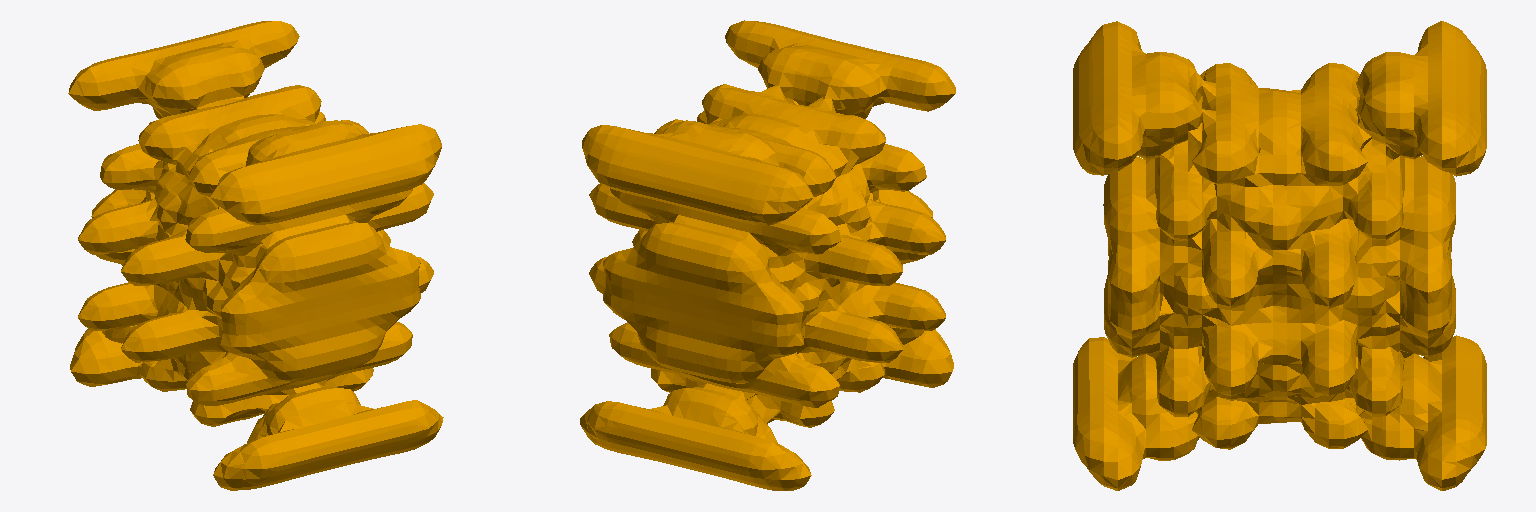
URDF robot description (object):
<?xml version="1.0"?>
<robot name="object">
  <link name="object">
    <visual>
      <origin xyz="0 0 0"/>
      <geometry>
        <mesh filename="meshes/subset_100_scaled/egad_Q25_1_s.obj" scale=".03 .03 .03"/>
      </geometry>
    </visual>
    <collision>
  <origin xyz="0 0 0"/>
  <geometry>
    <mesh filename="meshes/subset_100_scaled/egad_Q25_1_s_0decompose.obj" scale=".03 .03 .03"/>
<!--          <mesh filename="meshes/custom/obj0_ball.obj" scale=".05 .05 .05"/>-->
  </geometry>
</collision><collision>
  <origin xyz="0 0 0"/>
  <geometry>
    <mesh filename="meshes/subset_100_scaled/egad_Q25_1_s_1decompose.obj" scale=".03 .03 .03"/>
<!--          <mesh filename="meshes/custom/obj0_ball.obj" scale=".05 .05 .05"/>-->
  </geometry>
</collision><collision>
  <origin xyz="0 0 0"/>
  <geometry>
    <mesh filename="meshes/subset_100_scaled/egad_Q25_1_s_2decompose.obj" scale=".03 .03 .03"/>
<!--          <mesh filename="meshes/custom/obj0_ball.obj" scale=".05 .05 .05"/>-->
  </geometry>
</collision><collision>
  <origin xyz="0 0 0"/>
  <geometry>
    <mesh filename="meshes/subset_100_scaled/egad_Q25_1_s_3decompose.obj" scale=".03 .03 .03"/>
<!--          <mesh filename="meshes/custom/obj0_ball.obj" scale=".05 .05 .05"/>-->
  </geometry>
</collision><collision>
  <origin xyz="0 0 0"/>
  <geometry>
    <mesh filename="meshes/subset_100_scaled/egad_Q25_1_s_4decompose.obj" scale=".03 .03 .03"/>
<!--          <mesh filename="meshes/custom/obj0_ball.obj" scale=".05 .05 .05"/>-->
  </geometry>
</collision><collision>
  <origin xyz="0 0 0"/>
  <geometry>
    <mesh filename="meshes/subset_100_scaled/egad_Q25_1_s_5decompose.obj" scale=".03 .03 .03"/>
<!--          <mesh filename="meshes/custom/obj0_ball.obj" scale=".05 .05 .05"/>-->
  </geometry>
</collision><collision>
  <origin xyz="0 0 0"/>
  <geometry>
    <mesh filename="meshes/subset_100_scaled/egad_Q25_1_s_6decompose.obj" scale=".03 .03 .03"/>
<!--          <mesh filename="meshes/custom/obj0_ball.obj" scale=".05 .05 .05"/>-->
  </geometry>
</collision><collision>
  <origin xyz="0 0 0"/>
  <geometry>
    <mesh filename="meshes/subset_100_scaled/egad_Q25_1_s_7decompose.obj" scale=".03 .03 .03"/>
<!--          <mesh filename="meshes/custom/obj0_ball.obj" scale=".05 .05 .05"/>-->
  </geometry>
</collision><collision>
  <origin xyz="0 0 0"/>
  <geometry>
    <mesh filename="meshes/subset_100_scaled/egad_Q25_1_s_8decompose.obj" scale=".03 .03 .03"/>
<!--          <mesh filename="meshes/custom/obj0_ball.obj" scale=".05 .05 .05"/>-->
  </geometry>
</collision><collision>
  <origin xyz="0 0 0"/>
  <geometry>
    <mesh filename="meshes/subset_100_scaled/egad_Q25_1_s_9decompose.obj" scale=".03 .03 .03"/>
<!--          <mesh filename="meshes/custom/obj0_ball.obj" scale=".05 .05 .05"/>-->
  </geometry>
</collision><collision>
  <origin xyz="0 0 0"/>
  <geometry>
    <mesh filename="meshes/subset_100_scaled/egad_Q25_1_s_10decompose.obj" scale=".03 .03 .03"/>
<!--          <mesh filename="meshes/custom/obj0_ball.obj" scale=".05 .05 .05"/>-->
  </geometry>
</collision><collision>
  <origin xyz="0 0 0"/>
  <geometry>
    <mesh filename="meshes/subset_100_scaled/egad_Q25_1_s_11decompose.obj" scale=".03 .03 .03"/>
<!--          <mesh filename="meshes/custom/obj0_ball.obj" scale=".05 .05 .05"/>-->
  </geometry>
</collision><collision>
  <origin xyz="0 0 0"/>
  <geometry>
    <mesh filename="meshes/subset_100_scaled/egad_Q25_1_s_12decompose.obj" scale=".03 .03 .03"/>
<!--          <mesh filename="meshes/custom/obj0_ball.obj" scale=".05 .05 .05"/>-->
  </geometry>
</collision>

<!--    <collision>-->
<!--      <origin xyz="0 0 0"/>-->
<!--      <geometry>-->
<!--        <mesh filename="meshes/subset_100_scaled/egad_Q25_1_s.obj" scale=".03 .03 .03"/>-->
<!--&lt;!&ndash;          <mesh filename="meshes/custom/obj0_ball.obj" scale=".05 .05 .05"/>&ndash;&gt;-->
<!--      </geometry>-->
<!--    </collision>-->
    <inertial>
      <density value="1000.0"/>
    </inertial>
  </link>
</robot>

--- Render facts (derived) ---
3 views of the same robot in one strip: view 1: azimuth 30°, elevation 25°; view 2: azimuth 150°, elevation 25°; view 3: azimuth 270°, elevation 25° (orthographic).
Robot: object — 1 links, 0 joints (none); root link object; default pose: all joints at 0.
Visible links, largest first — view 1: object; view 2: object; view 3: object.
Link boxes in pixels (bbox=[...]): object: bbox=[68, 21, 443, 490]; object: bbox=[580, 20, 955, 490]; object: bbox=[1073, 21, 1486, 490].
Size in the robot's own frame: 0.06 by 0.06 by 0.06 metres.
Meshes: 1 distinct files referenced, 1 mesh visuals loaded (1 OBJ).
